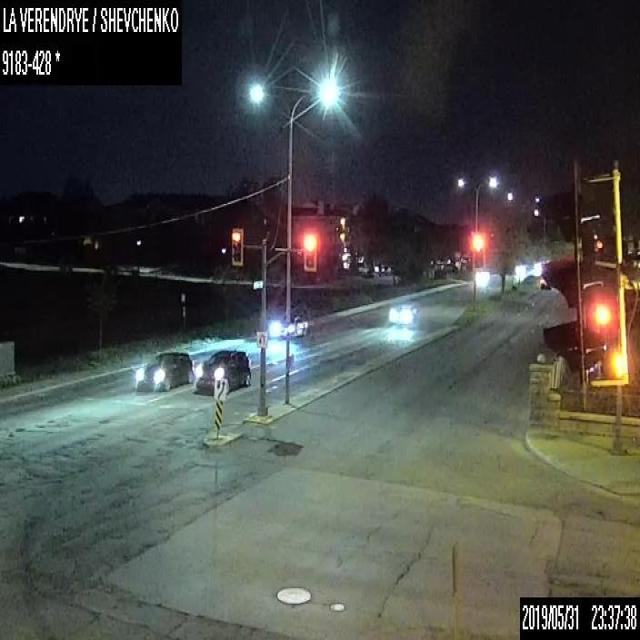vehicle: (195, 349, 250, 394), (136, 351, 193, 391), (270, 313, 308, 337), (391, 303, 417, 324)
